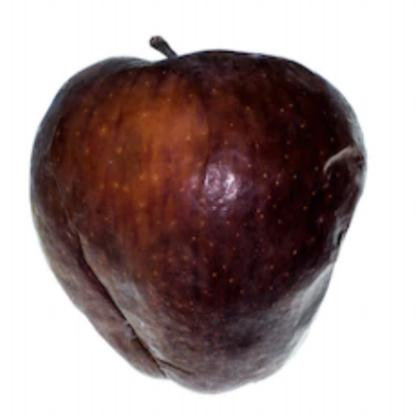Rotten Apple: (28, 50, 366, 390)
